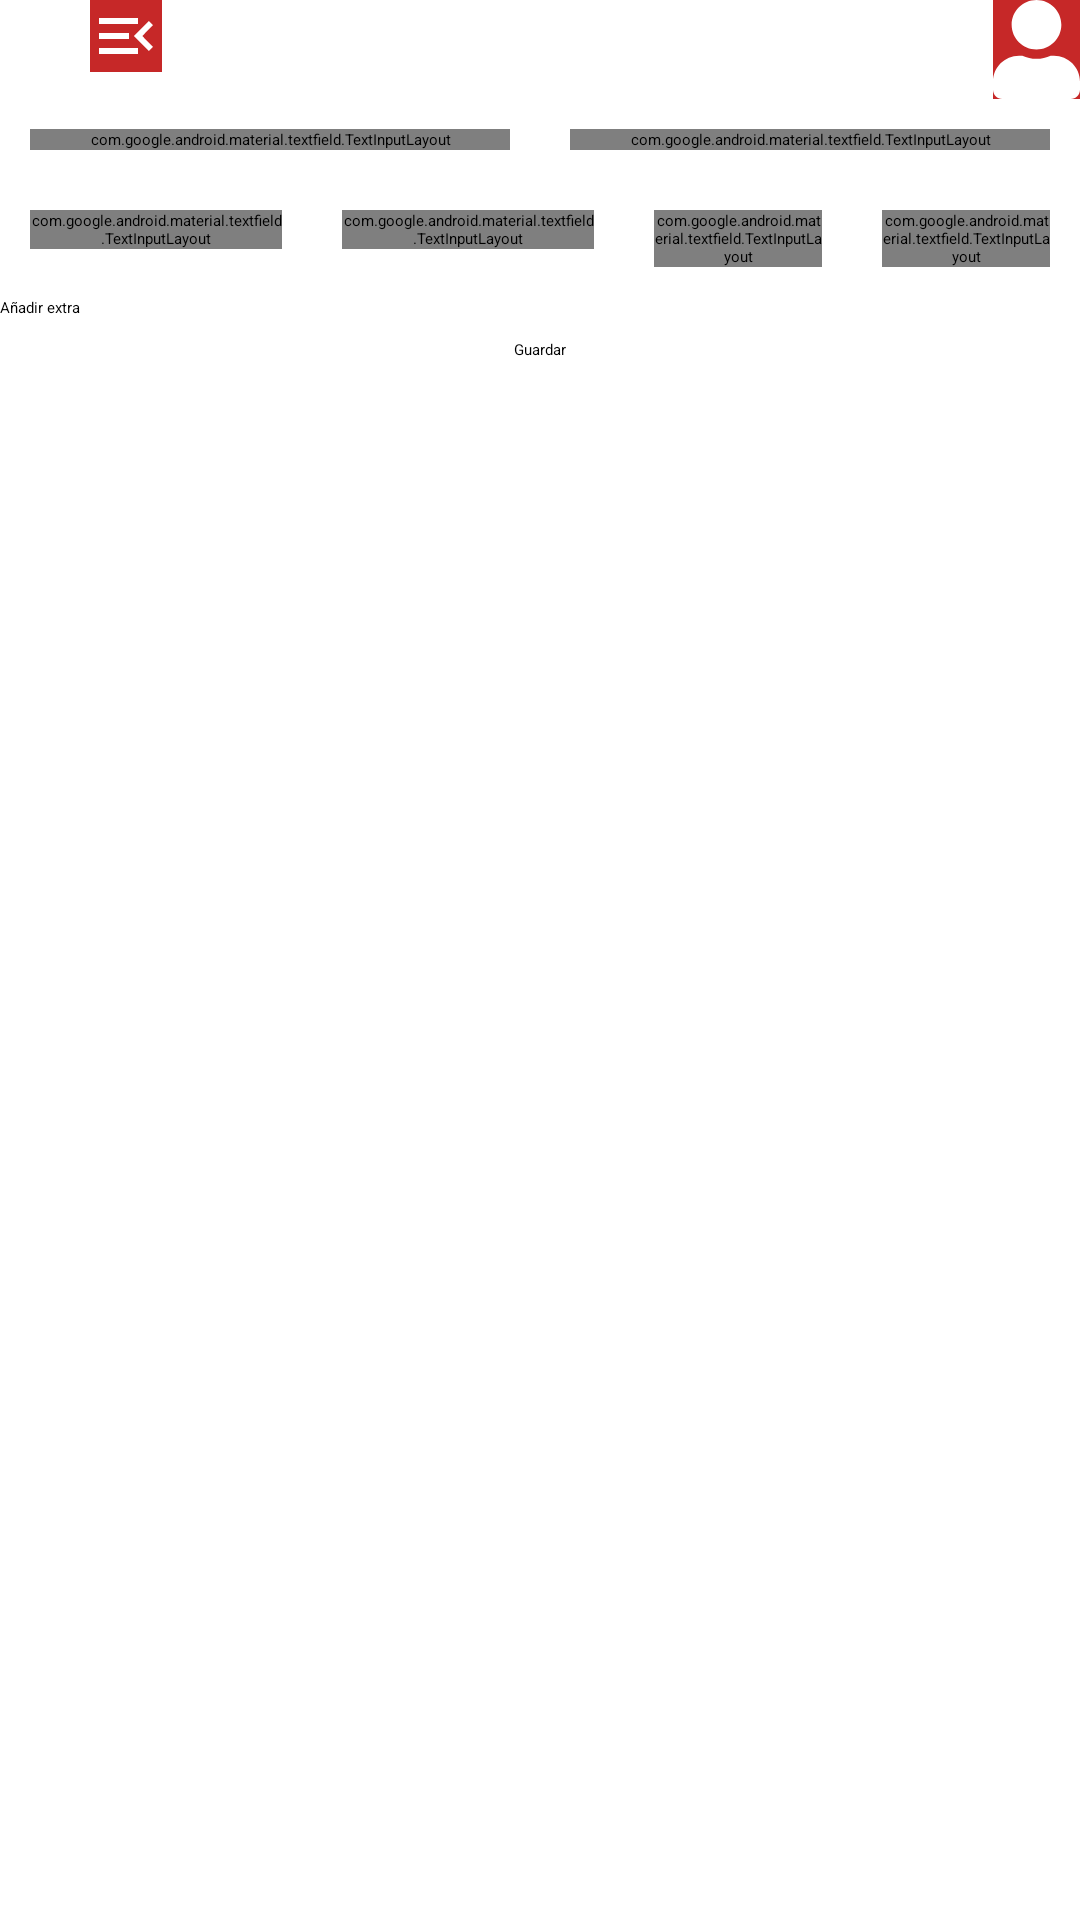

Named icons in this screenshot (1080w x 1920h) and their centers, point (x, y):
open: point (126, 36)
user: point (1036, 49)
